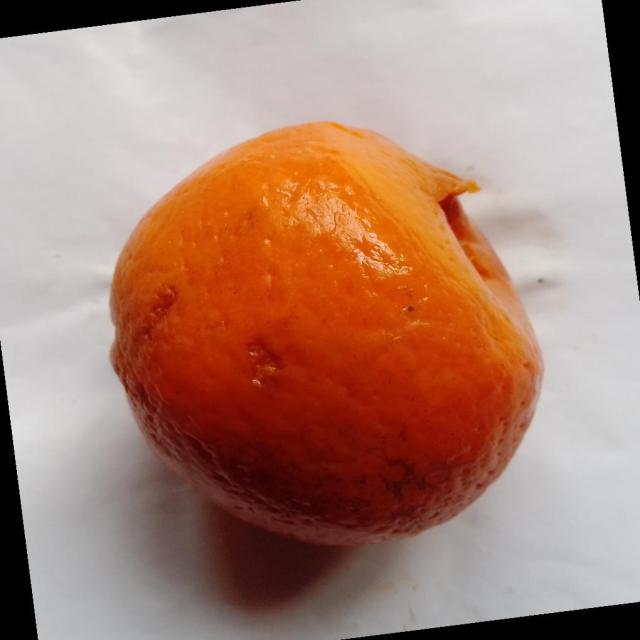Rotten: (110, 119, 547, 546)
